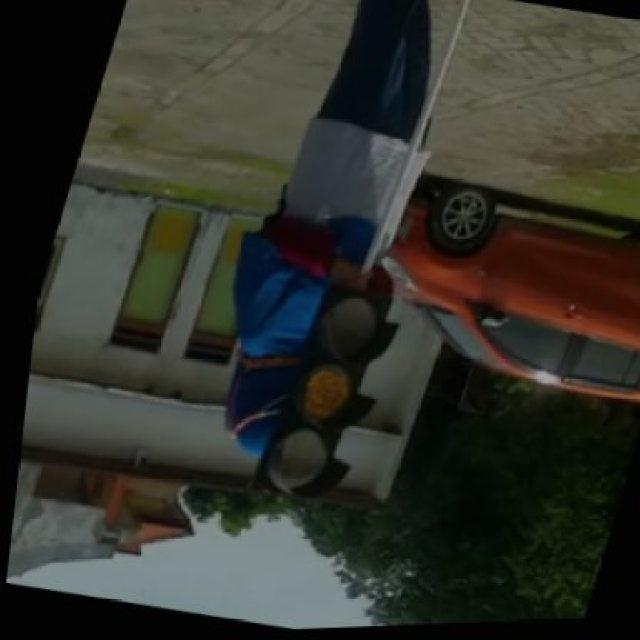Yellow: (256, 280, 402, 506)
